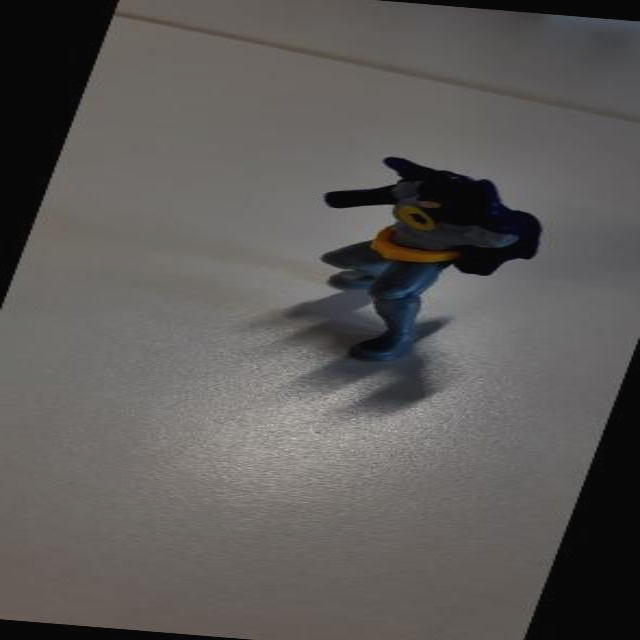Batman: (212, 137, 600, 407)
